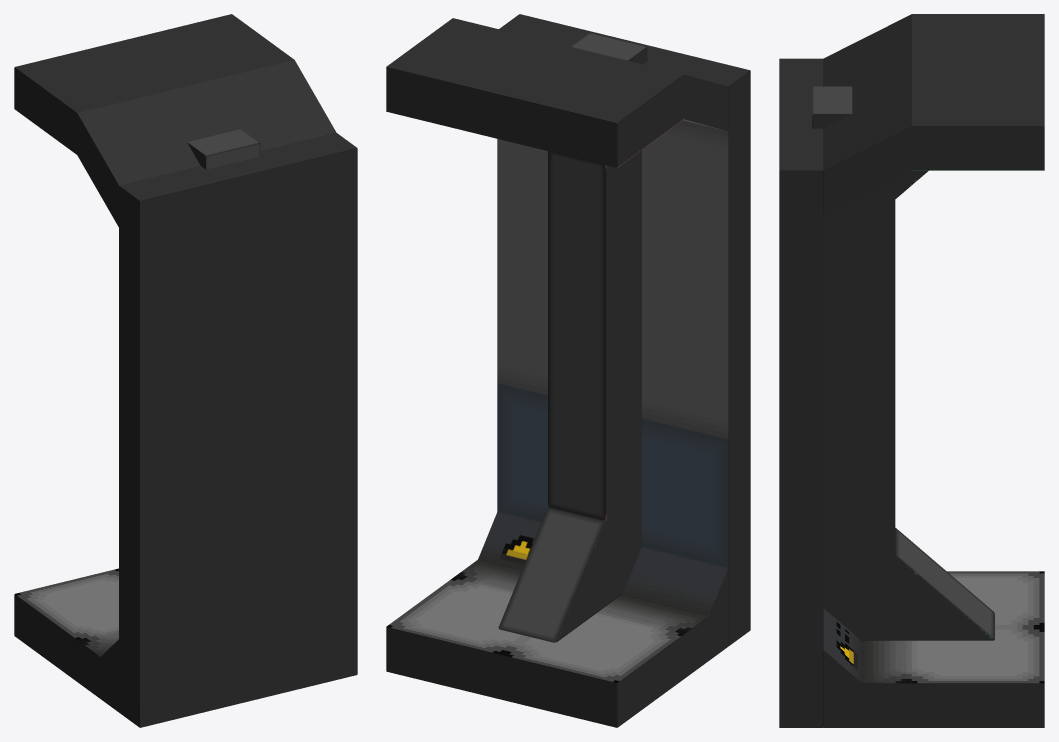
The model's file is ShipWallPillar.obj.
The picture shows the model from 3 angles, left to right: view 1: azimuth 30°, elevation 25°; view 2: azimuth 150°, elevation 25°; view 3: azimuth 270°, elevation 25°; orthographic projection. The views are drawn at different scales.
Parts seen in each view (by area): view 1: ShipWall, cuboid; view 2: ShipWall, cuboid; view 3: ShipWall, cuboid.
Boxes of the visible parts, x1,y1,x2,y2 form: ShipWall: (14,14,357,727); cuboid: (187,129,260,169); ShipWall: (386,14,750,727); cuboid: (498,33,647,642); ShipWall: (779,14,1044,727); cuboid: (812,86,994,640).
Size of the model in its own units: 1 by 2.5 by 1.
2 materials, 2 textured.
